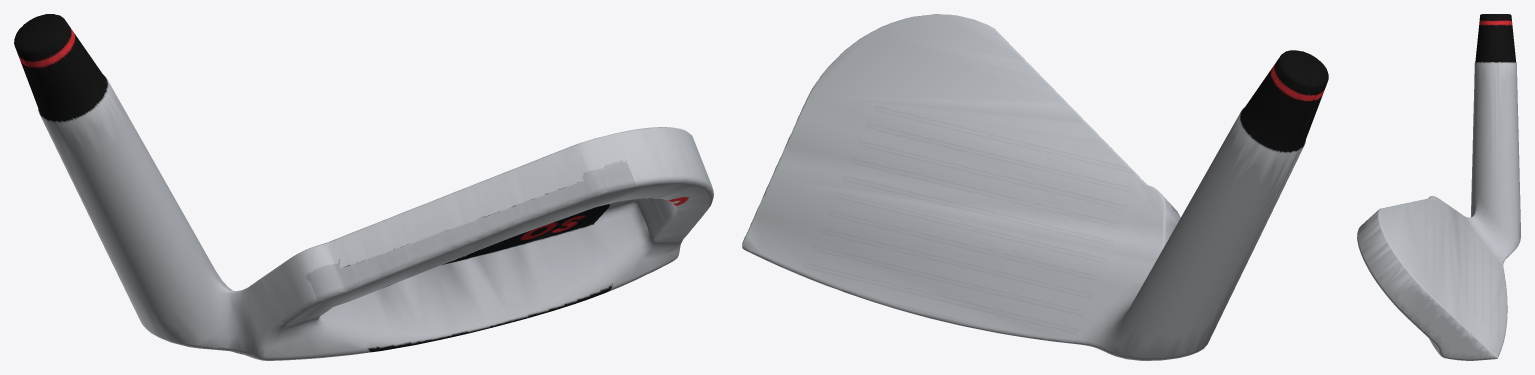
3 renders of one model, left to right at view 1: azimuth 30°, elevation 25°; view 2: azimuth 150°, elevation 25°; view 3: azimuth 270°, elevation 25°, orthographic. The views are drawn at different scales.
Parts seen in each view (by area): view 1: head; view 2: head; view 3: head.
Boxes of the visible parts, left/top/right/bottom form: head: left=14, top=14, right=713, bottom=360; head: left=742, top=14, right=1328, bottom=360; head: left=1357, top=14, right=1520, bottom=360.
Size of the model in its own units: 0.1235 by 0.0705 by 0.0515.
1 material, 1 textured.
